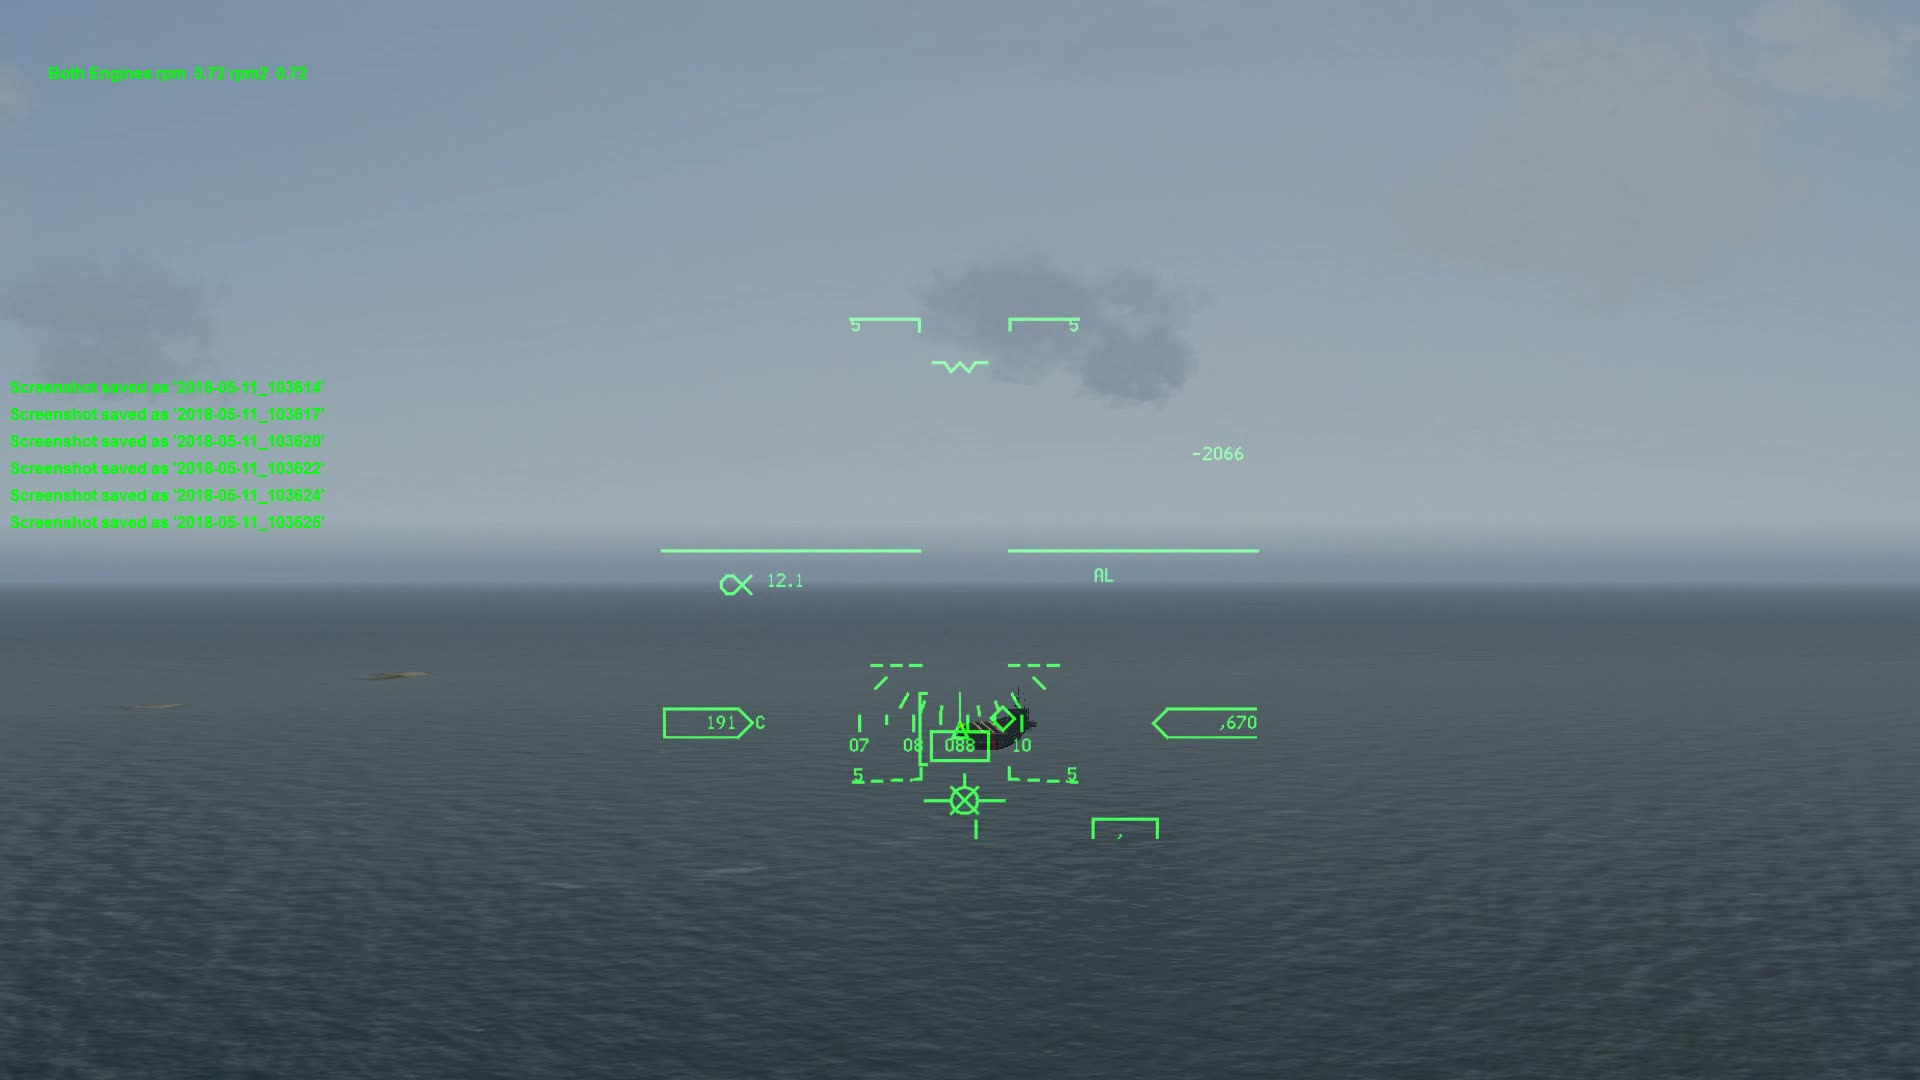speed vector: (924, 778, 1017, 818)
